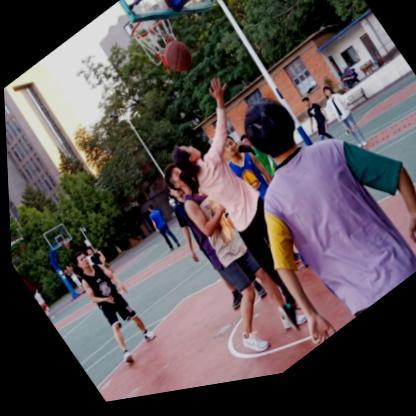basketball: (157, 37, 198, 86)
